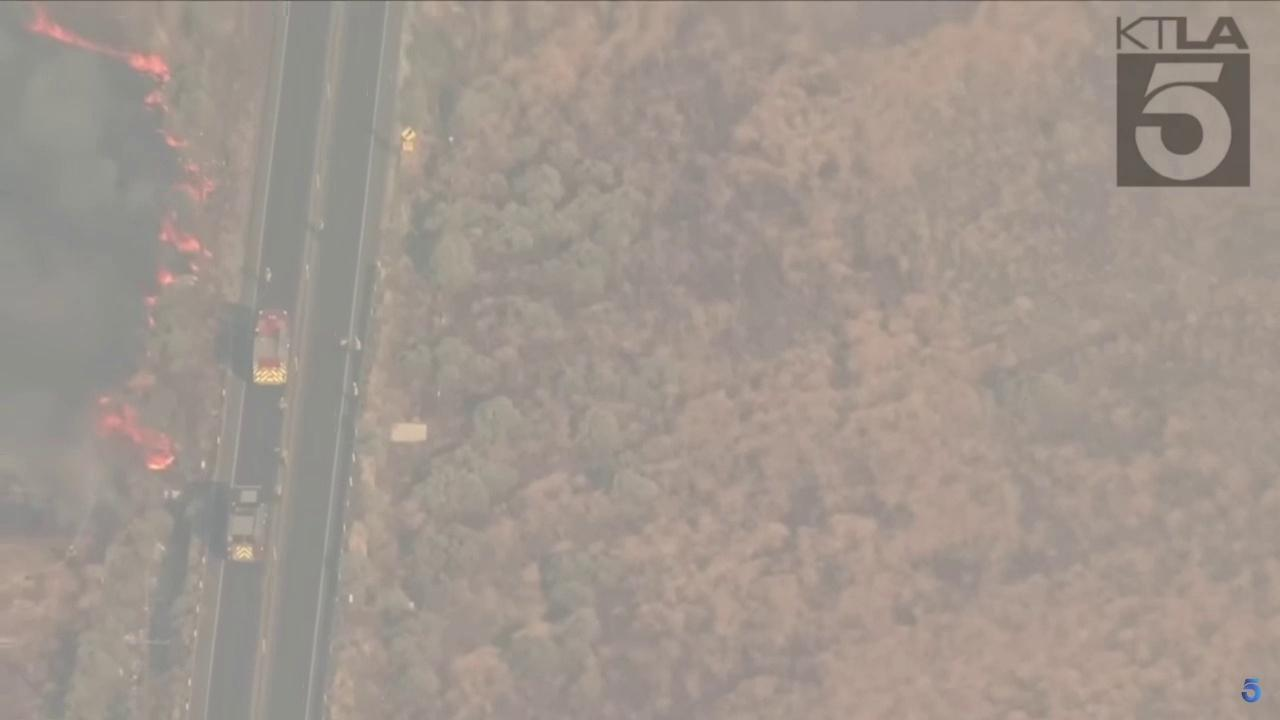fire: (28, 4, 172, 114), (95, 392, 176, 473), (160, 209, 215, 258), (171, 162, 217, 204), (152, 127, 194, 148), (156, 268, 176, 287), (143, 293, 159, 307), (147, 316, 157, 331)
smoke: (0, 0, 193, 527)
